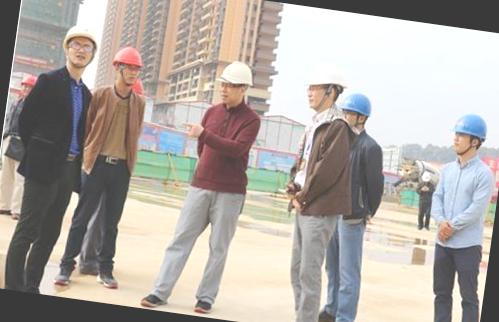helmet: (442, 108, 494, 149), (304, 59, 352, 97), (211, 56, 259, 94), (336, 89, 378, 123), (108, 42, 148, 76)
no_vest: (20, 66, 92, 172), (289, 109, 352, 218), (194, 98, 256, 188), (429, 155, 486, 251), (88, 81, 144, 161)
person: (141, 51, 270, 318), (0, 16, 105, 297), (52, 39, 156, 296), (262, 55, 361, 322), (406, 105, 499, 322)
